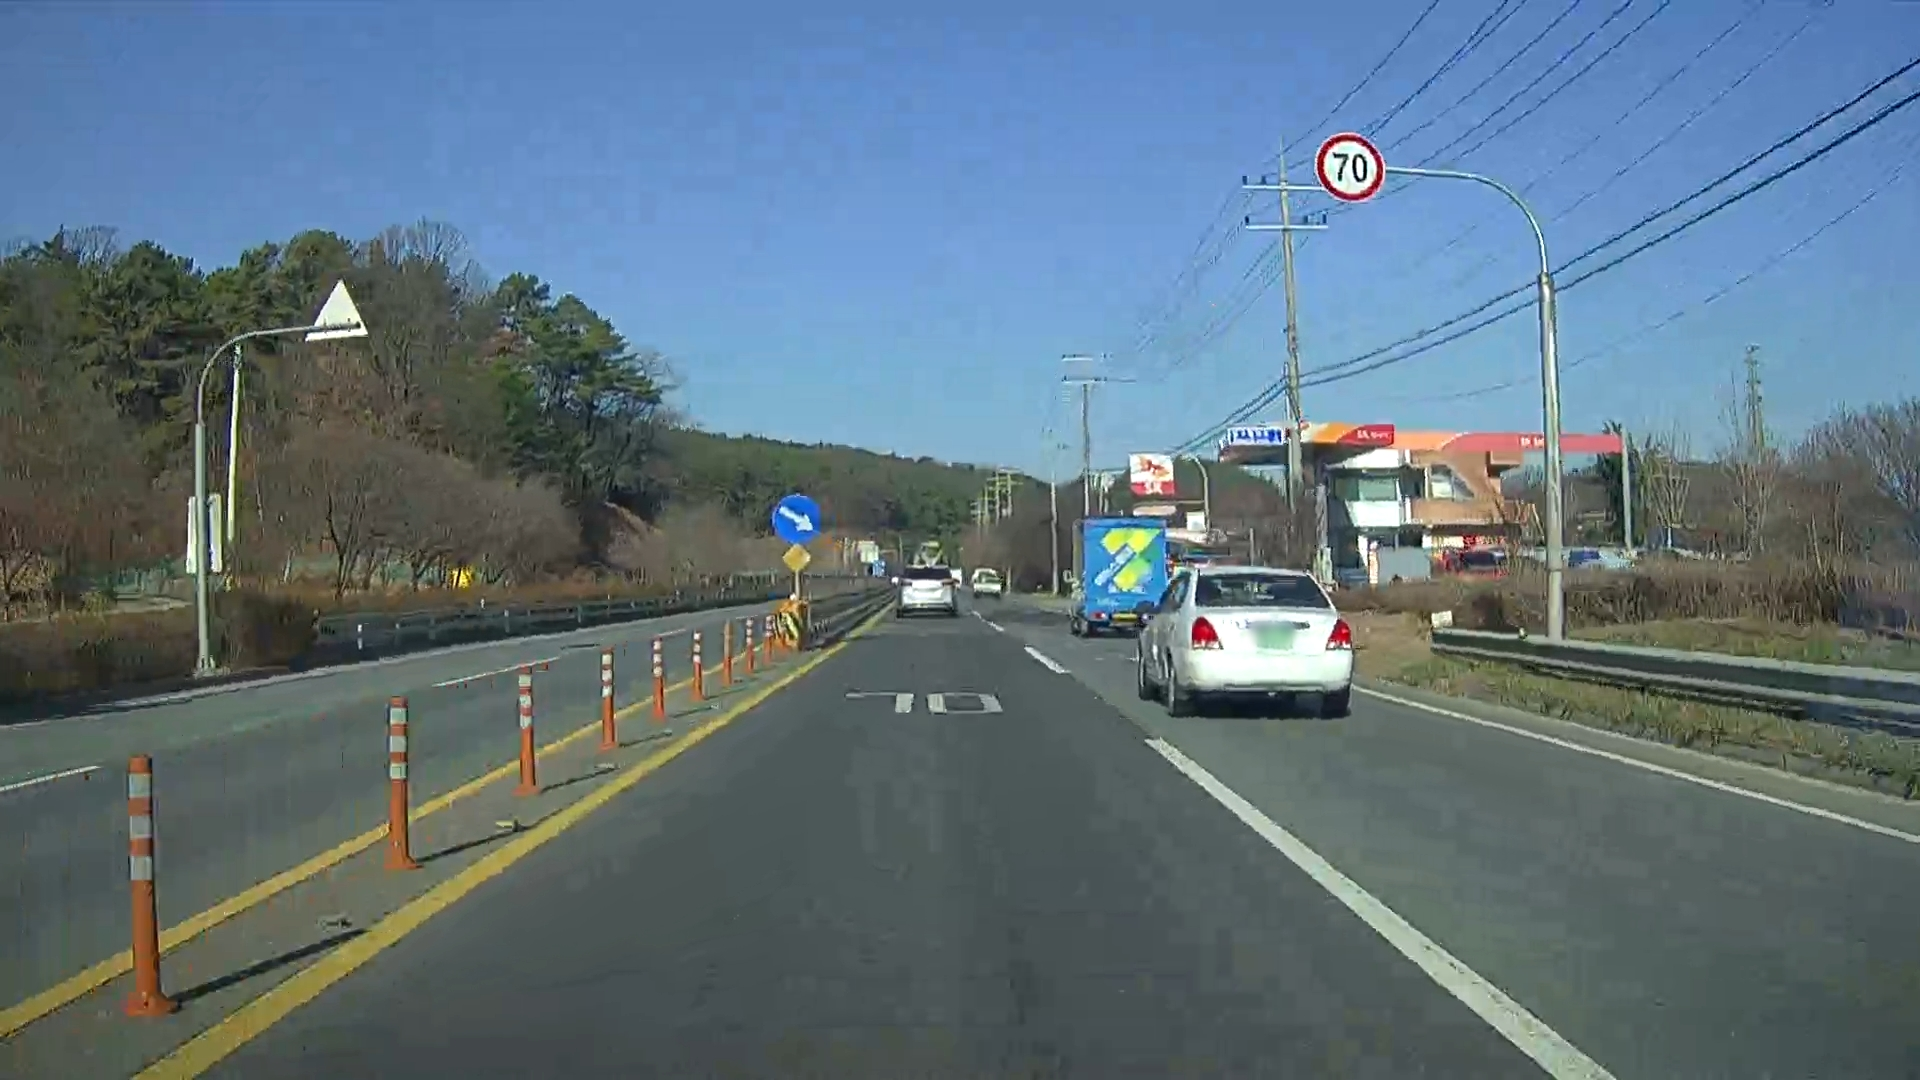trafficSignCircle: (1313, 128, 1385, 204), (770, 489, 827, 549)
